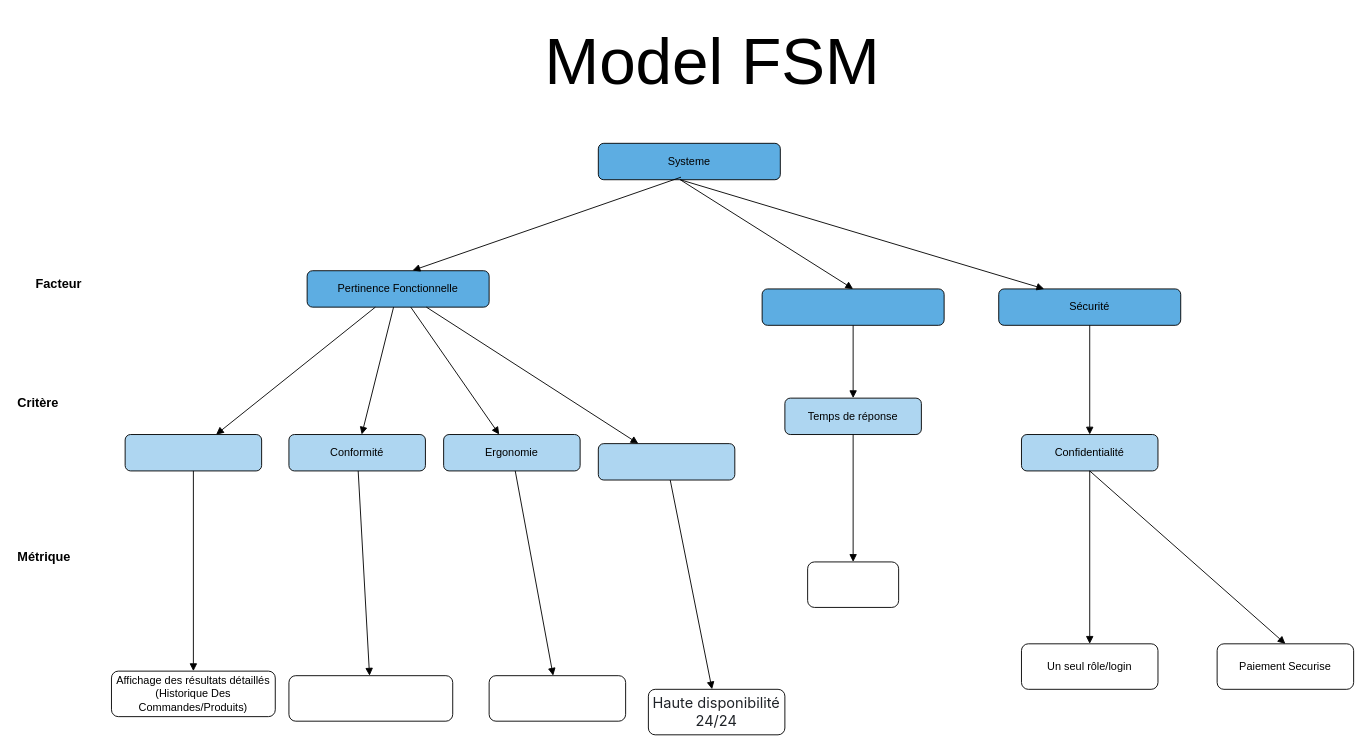
Some shapes in this 1370 by 751 pixel diagram are drawn without their labels. Here are the shapes that lost their labels. From the top down, the box of each, then its label:
(761, 288, 944, 325): Performance
(124, 434, 262, 471): Précision
(597, 443, 735, 480): Fiabilite
(807, 561, 899, 607): < 2 secondes
(288, 675, 453, 721): Par rapport au cahier des charges
(488, 675, 626, 721): Couleur Conforme Claire
